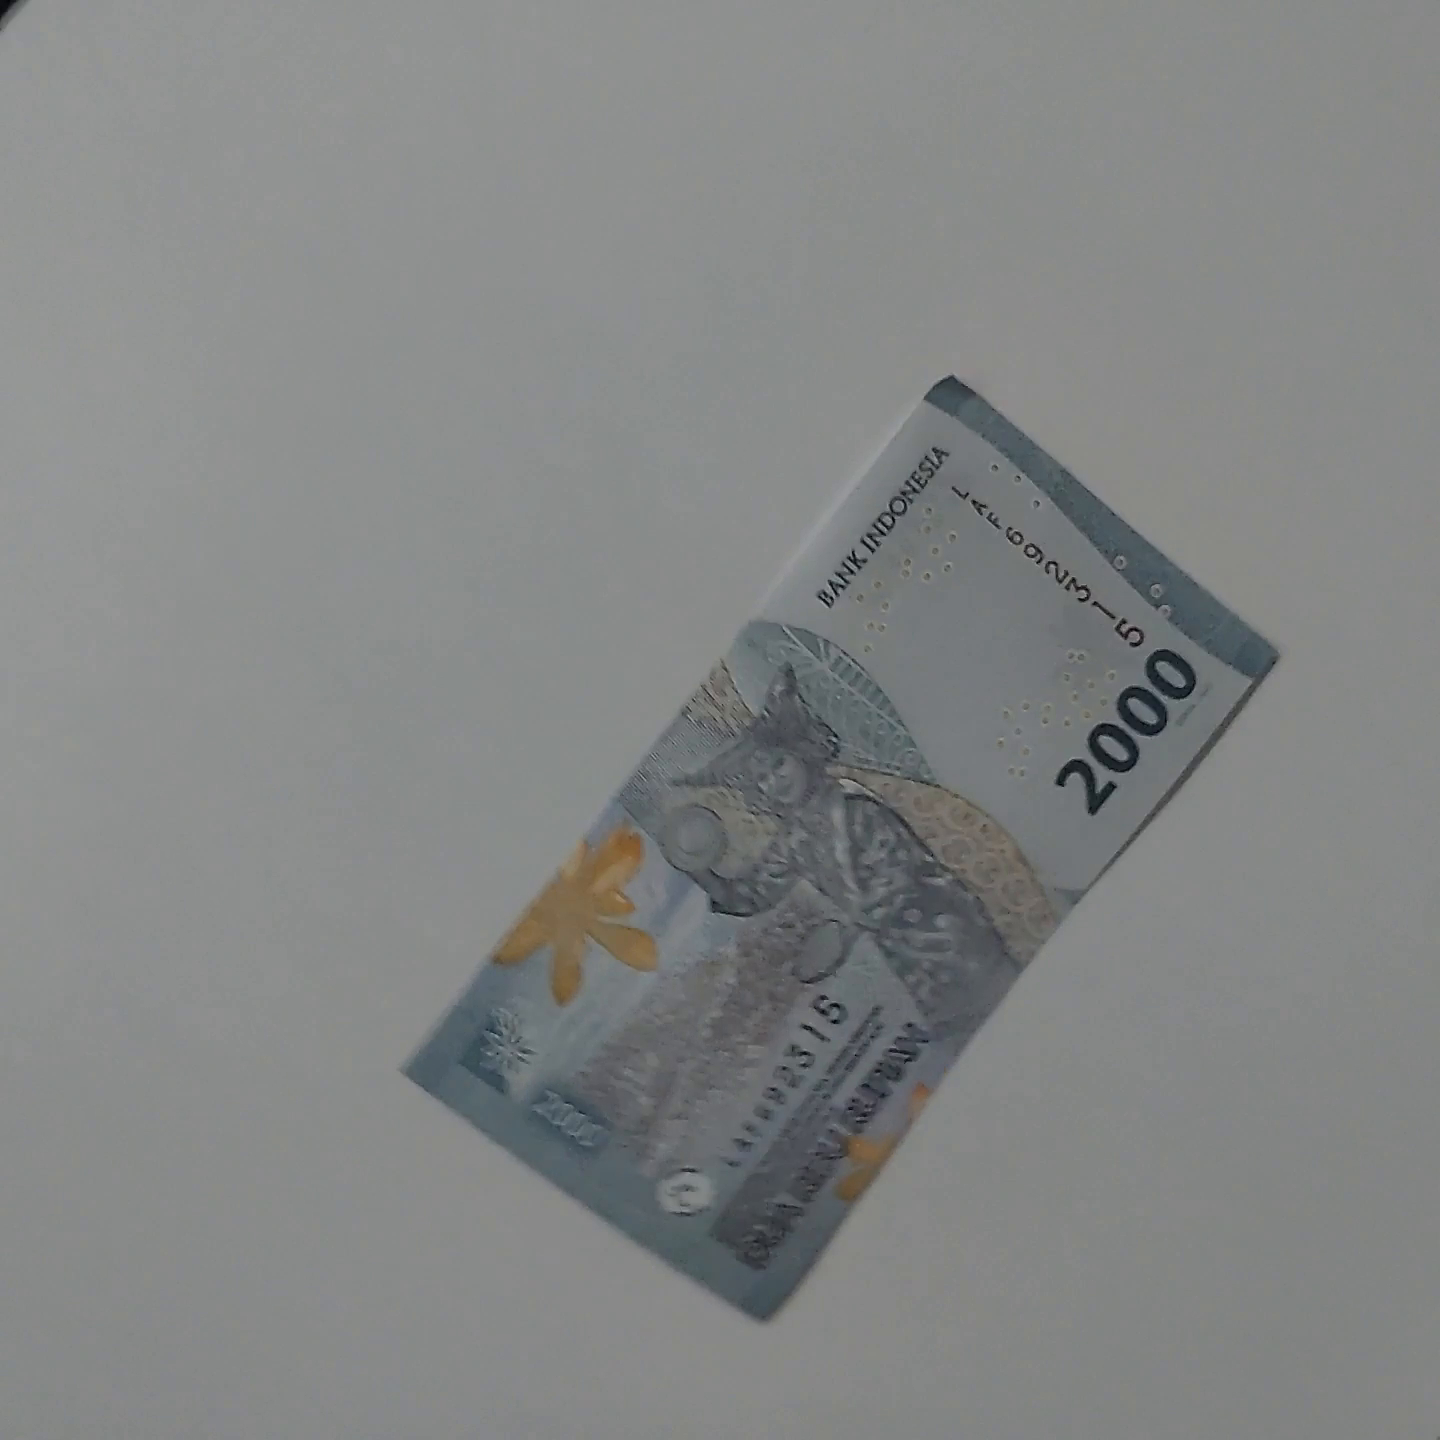2k: (919, 320, 1432, 1233)
